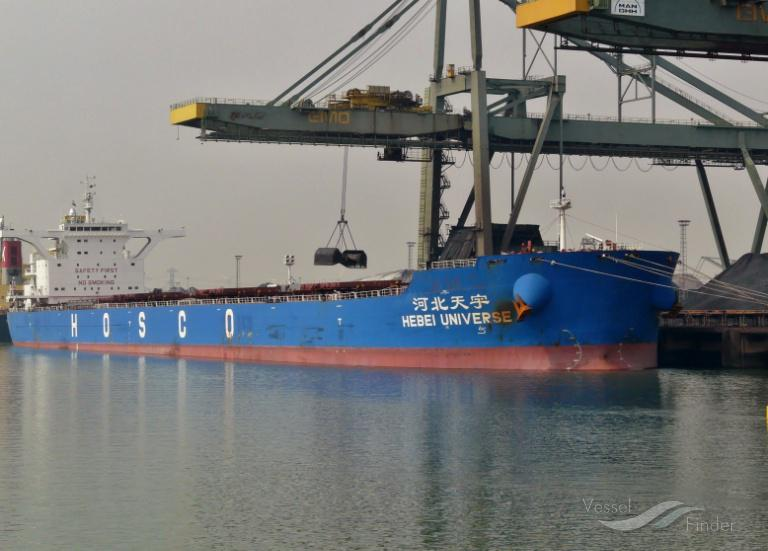OCR: (66, 308, 247, 347), (398, 306, 522, 336)
